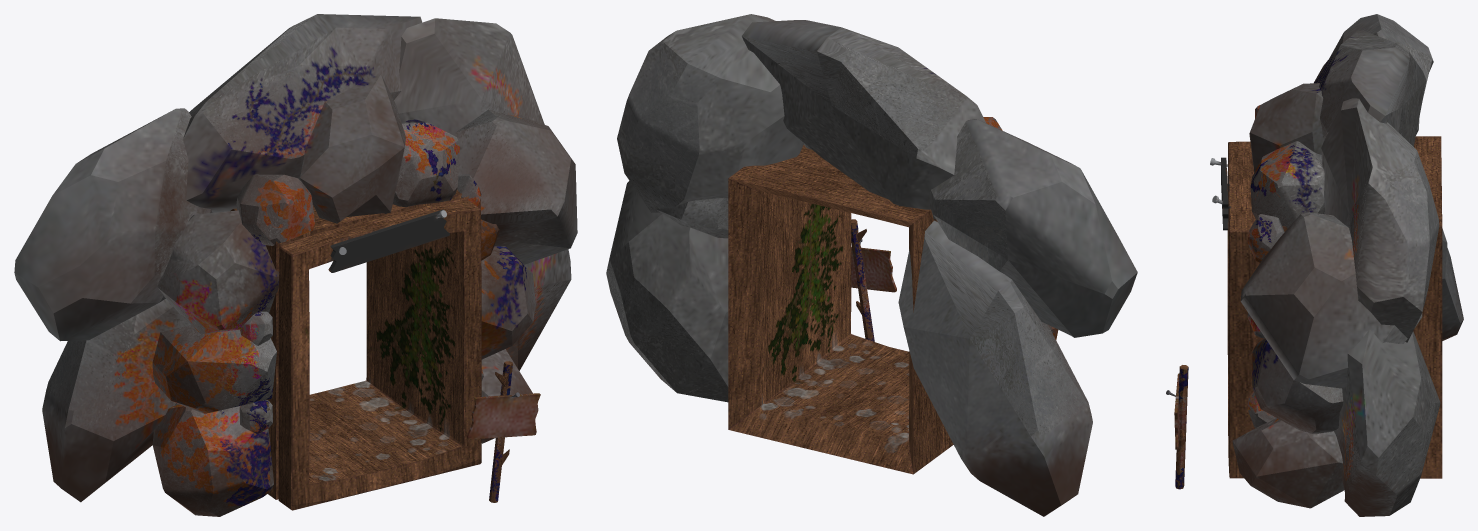
The model's file is mine_entrance.glb.
3 renders of one model, left to right at view 1: azimuth 30°, elevation 25°; view 2: azimuth 150°, elevation 25°; view 3: azimuth 270°, elevation 25°, orthographic. The views are drawn at different scales.
Parts seen in each view (by area): view 1: pCube1, pPlatonic15, pPlatonic16, pPlatonic12, pPlatonic10, pPlatonic14, pPlatonic4, pPlatonic8, pPlatonic1, pPlatonic7, pPlatonic2, pPlatonic11 (+8 smaller); view 2: pCube1, pPlatonic12, pPlatonic15, pPlatonic16, pPlatonic14, pPlatonic13, pPlatonic10, pCube3, pCylinder1; view 3: pPlatonic14, pPlatonic10, pPlatonic13, pCube1, pPlatonic16, pPlatonic6, pPlatonic11, pPlatonic2, pPlatonic4, pPlatonic15, pPlatonic12, pPlatonic21 (+3 smaller).
Boxes of the visible parts, left/top/right/bottom form: pCube1: left=230, top=189, right=481, bottom=510; pPlatonic15: left=14, top=108, right=212, bottom=341; pPlatonic16: left=183, top=14, right=422, bottom=212; pPlatonic12: left=42, top=299, right=190, bottom=502; pPlatonic10: left=454, top=109, right=577, bottom=264; pPlatonic14: left=394, top=18, right=544, bottom=135; pPlatonic4: left=300, top=74, right=405, bottom=223; pPlatonic8: left=157, top=210, right=278, bottom=333; pPlatonic1: left=152, top=403, right=273, bottom=516; pPlatonic7: left=152, top=325, right=276, bottom=413; pPlatonic2: left=481, top=246, right=535, bottom=359; pPlatonic11: left=392, top=119, right=460, bottom=207; pCube1: left=728, top=145, right=953, bottom=474; pPlatonic12: left=898, top=220, right=1092, bottom=516; pPlatonic15: left=927, top=119, right=1137, bottom=337; pPlatonic16: left=742, top=20, right=985, bottom=219; pPlatonic14: left=617, top=14, right=804, bottom=212; pPlatonic13: left=606, top=181, right=728, bottom=402; pPlatonic10: left=656, top=197, right=728, bottom=238; pCube3: left=851, top=246, right=896, bottom=292; pCylinder1: left=851, top=219, right=874, bottom=341; pPlatonic14: left=1321, top=98, right=1439, bottom=342; pPlatonic10: left=1240, top=212, right=1422, bottom=388; pPlatonic13: left=1334, top=329, right=1440, bottom=516; pCube1: left=1227, top=136, right=1442, bottom=478; pPlatonic16: left=1314, top=30, right=1426, bottom=146; pPlatonic6: left=1232, top=418, right=1344, bottom=508; pPlatonic11: left=1250, top=141, right=1324, bottom=228; pPlatonic2: left=1252, top=337, right=1343, bottom=433; pPlatonic4: left=1249, top=83, right=1324, bottom=172; pPlatonic15: left=1329, top=14, right=1433, bottom=134; pPlatonic12: left=1442, top=228, right=1463, bottom=340; pPlatonic21: left=1247, top=214, right=1284, bottom=262.
Size of the model in its own units: 278 by 211 by 137.
3 materials, 3 textured.
